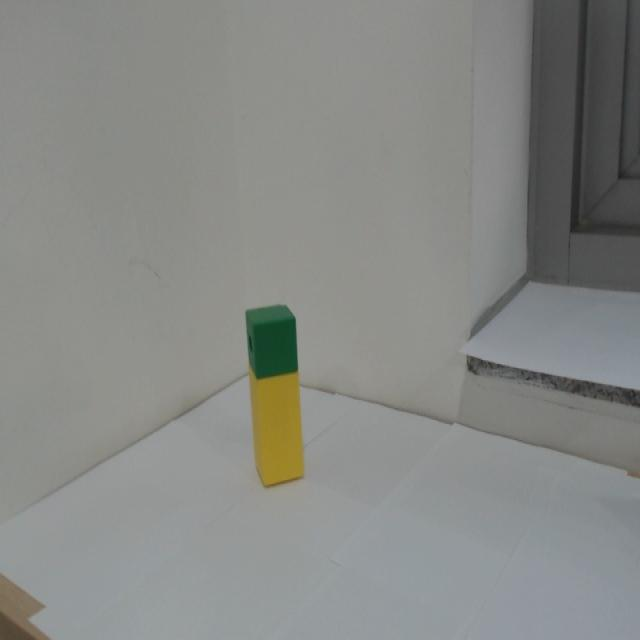cube: (243, 302, 302, 382)
